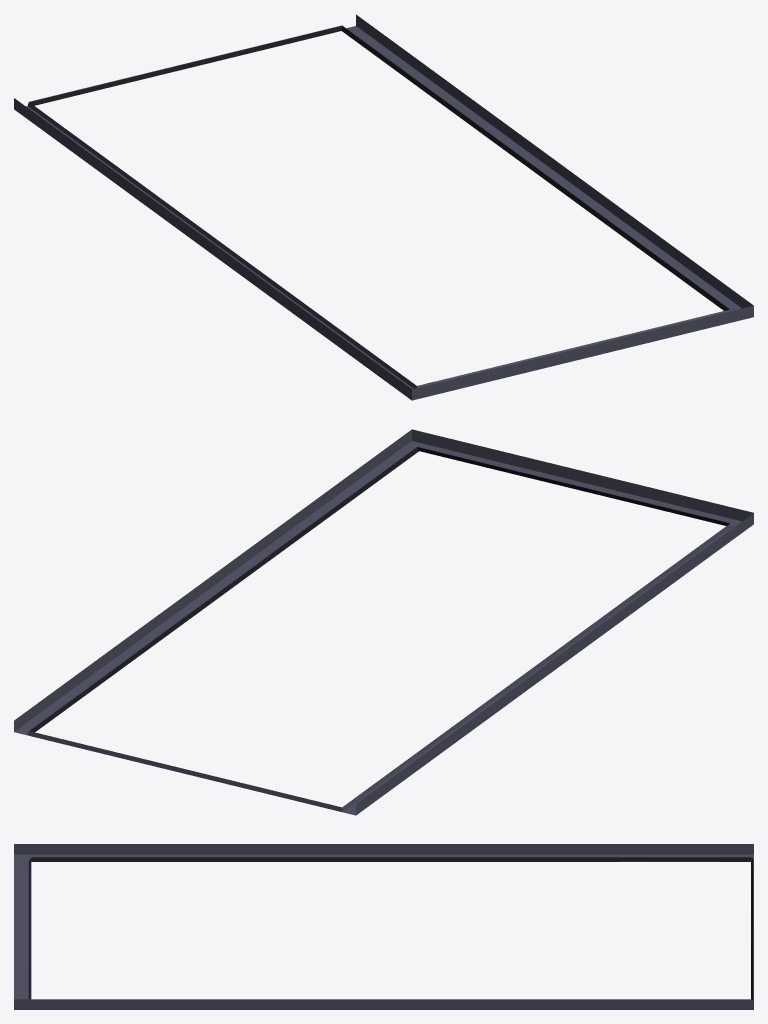
Rendered from koridor.009.fbx.
3 views of the same model, one above another, from view 1: azimuth 30°, elevation 25°; view 2: azimuth 150°, elevation 25°; view 3: azimuth 270°, elevation 25° (orthographic). The views are drawn at different scales.
Visible parts, largest first — view 1: koridor_009; view 2: koridor_009; view 3: koridor_009.
Boxes of the visible parts, <box> form: koridor_009: <box>14,14,753,400</box>; koridor_009: <box>14,429,753,815</box>; koridor_009: <box>14,844,753,1009</box>.
Bounding box in the file's own units: 1.09 × 0.0351 × 2.2.
1 material, 1 textured.
